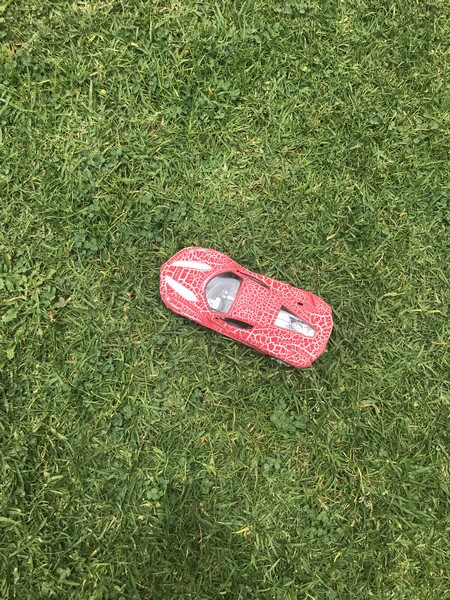RC: (158, 244, 335, 372)
